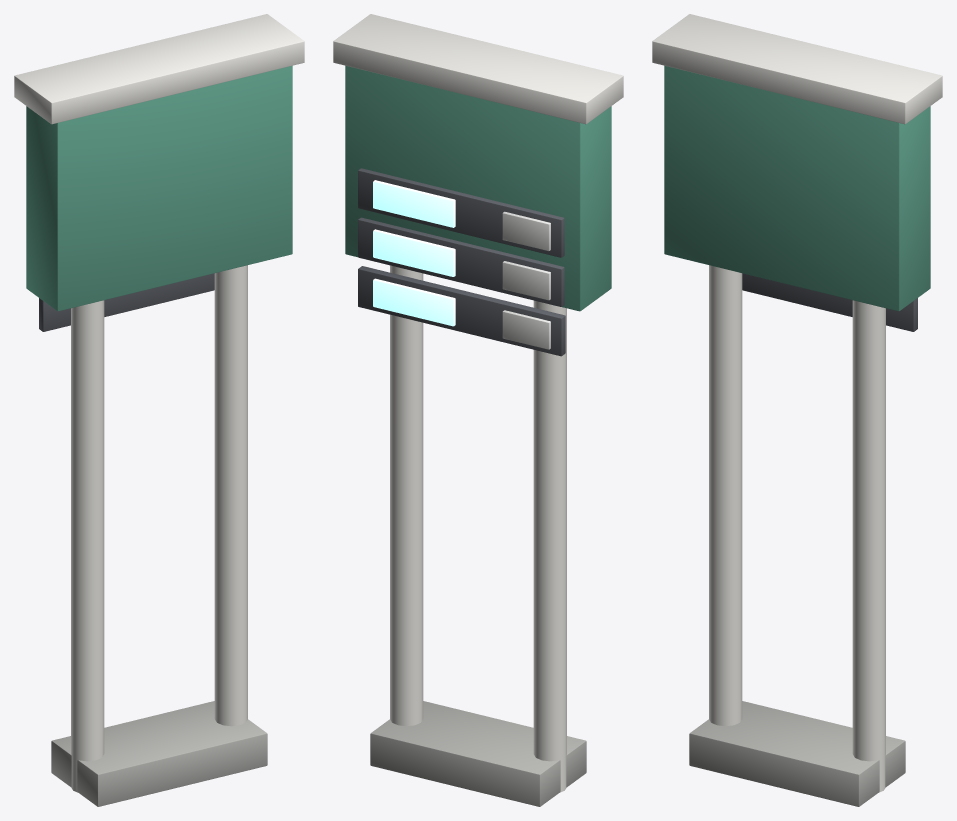
File: th43_preistafel.glb
3 renders of one model, left to right at view 1: azimuth 30°, elevation 25°; view 2: azimuth 150°, elevation 25°; view 3: azimuth 330°, elevation 25°, orthographic.
Visible parts, largest first — view 1: Cube.001, Cylinder, Cube.012, Cylinder.001, Cube, Cube.009; view 2: Cube.001, Cube.012, Cylinder, Cylinder.001, Cube, Cube.009, Cube.003, Cube.006, Cube.011, Cube.005, Cube.008, Cube.007 (+2 smaller); view 3: Cube.001, Cylinder.001, Cube.012, Cylinder, Cube, Cube.009.
Boxes of the visible parts, x1=… form: Cube.001: x1=26, y1=65, x2=292, y2=311; Cylinder: x1=71, y1=300, x2=104, y2=792; Cube.012: x1=14, y1=14, x2=304, y2=124; Cylinder.001: x1=214, y1=265, x2=247, y2=726; Cube: x1=51, y1=701, x2=267, y2=806; Cube.009: x1=39, y1=273, x2=214, y2=331; Cube.001: x1=345, y1=65, x2=611, y2=311; Cube.012: x1=333, y1=14, x2=623, y2=124; Cylinder: x1=533, y1=300, x2=566, y2=792; Cylinder.001: x1=390, y1=265, x2=423, y2=726; Cube: x1=370, y1=701, x2=586, y2=806; Cube.009: x1=358, y1=266, x2=565, y2=356; Cube.003: x1=358, y1=168, x2=564, y2=257; Cube.006: x1=358, y1=217, x2=564, y2=306; Cube.011: x1=373, y1=278, x2=455, y2=326; Cube.005: x1=373, y1=180, x2=455, y2=227; Cube.008: x1=373, y1=229, x2=455, y2=276; Cube.007: x1=502, y1=261, x2=550, y2=300; Cube.001: x1=664, y1=65, x2=930, y2=311; Cylinder.001: x1=852, y1=300, x2=885, y2=792; Cube.012: x1=652, y1=14, x2=942, y2=124; Cylinder: x1=709, y1=265, x2=742, y2=726; Cube: x1=689, y1=701, x2=905, y2=806; Cube.009: x1=742, y1=273, x2=917, y2=331.
Size of the model in its own units: 1.94 by 5.2 by 0.62.
